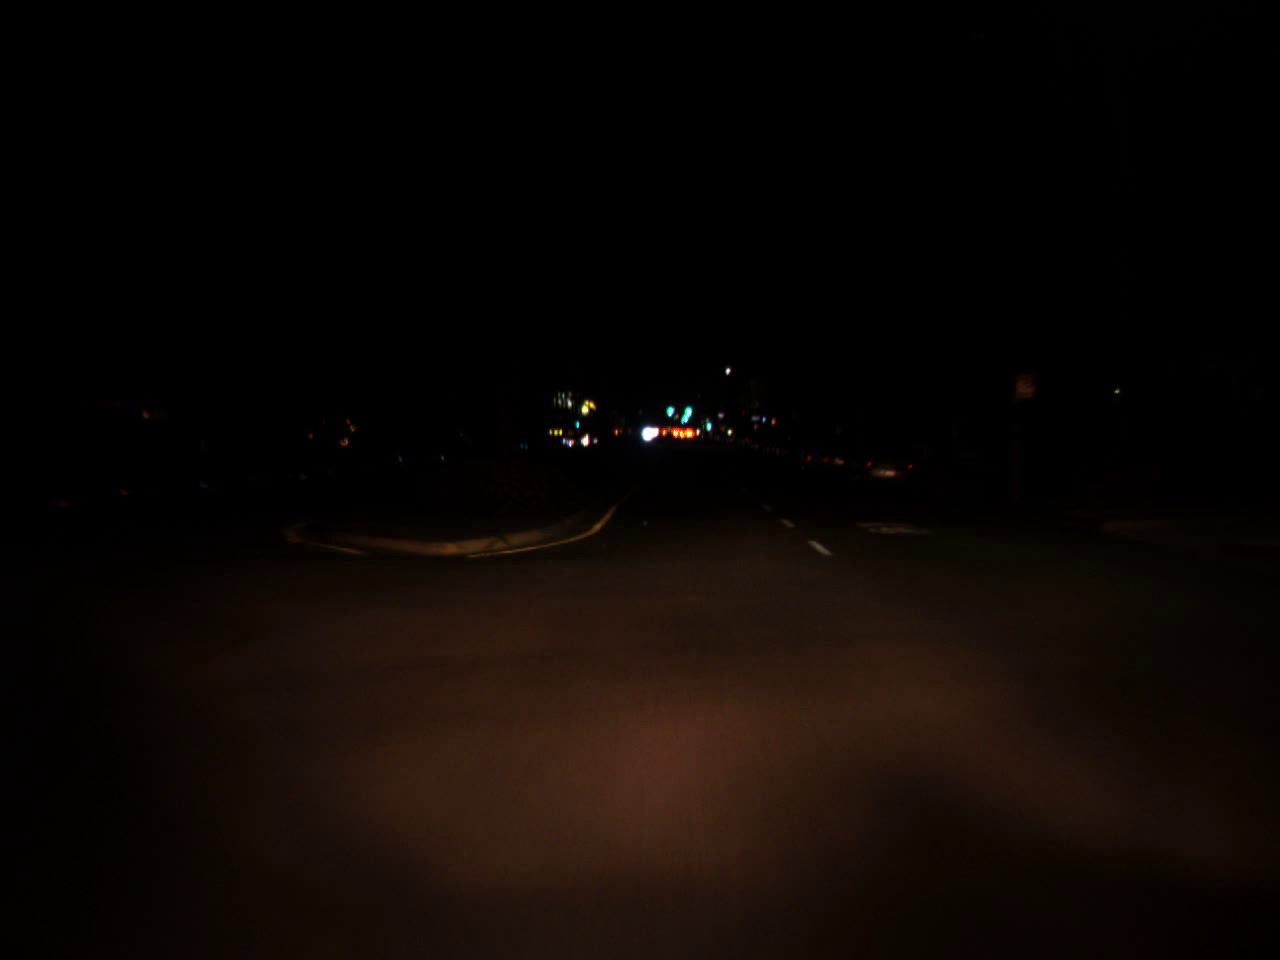go: (680, 396, 694, 419), (665, 400, 674, 415), (703, 414, 711, 432), (571, 413, 580, 428)
